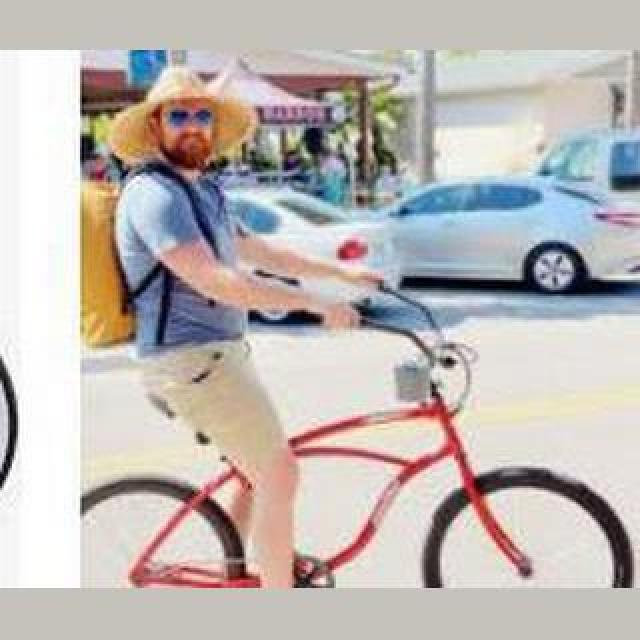Bus-Bike: (360, 132, 640, 294), (234, 188, 410, 288)
MC-Bike: (108, 66, 382, 592)
Person: (80, 328, 640, 588)
